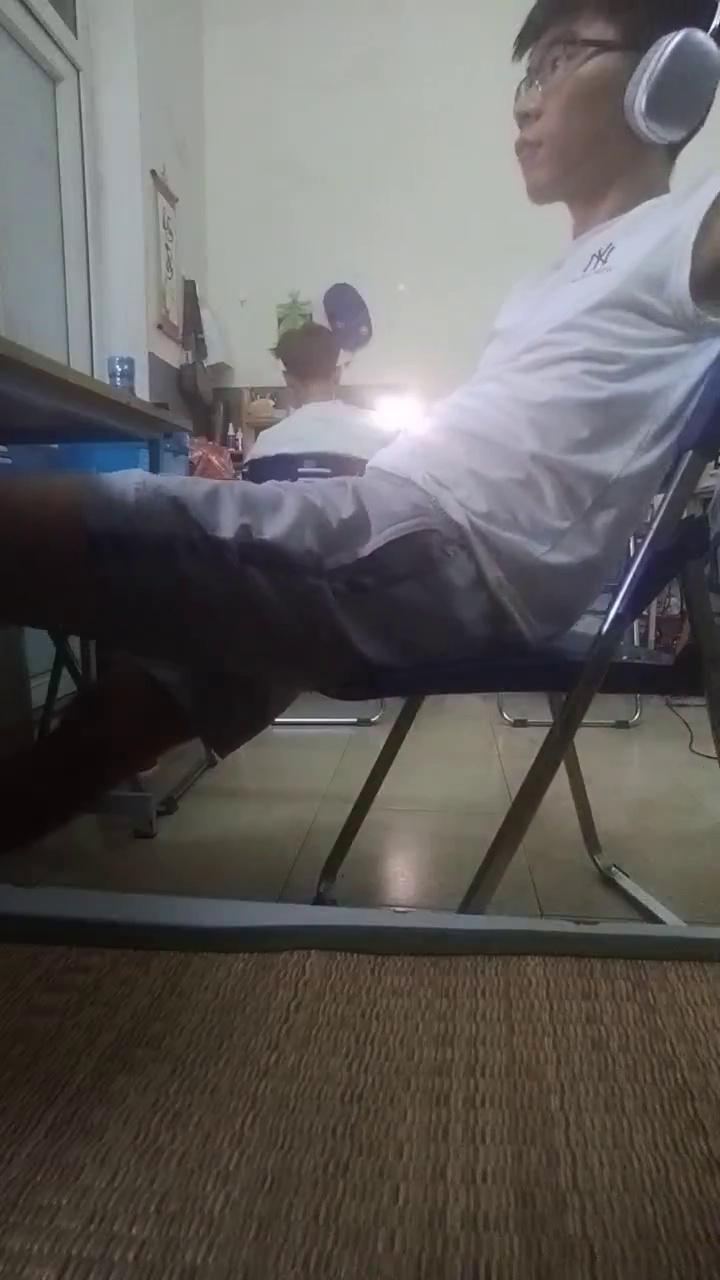BadPosture: (0, 0, 719, 855)
